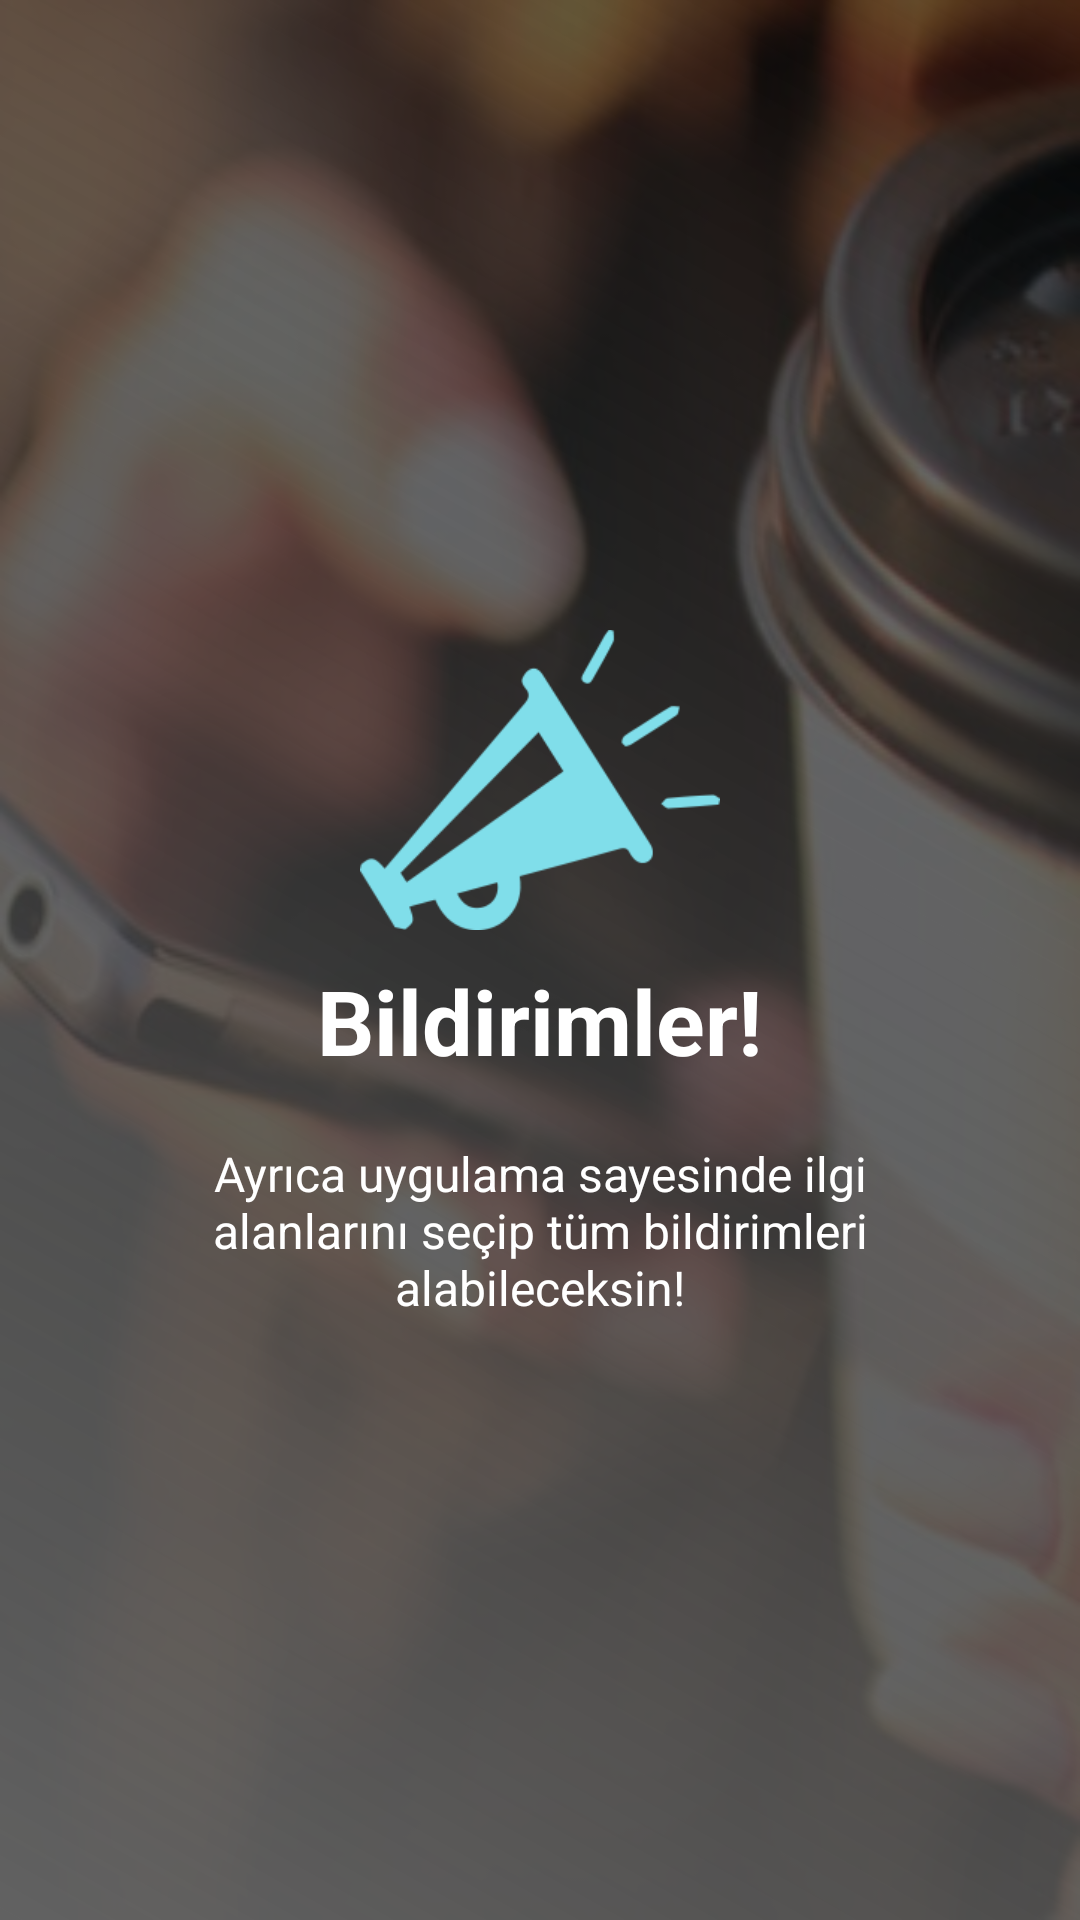

Icons on this 1080*1920 Android screen, each with the point to tap as [x,y]:
announcement: [540,765]
